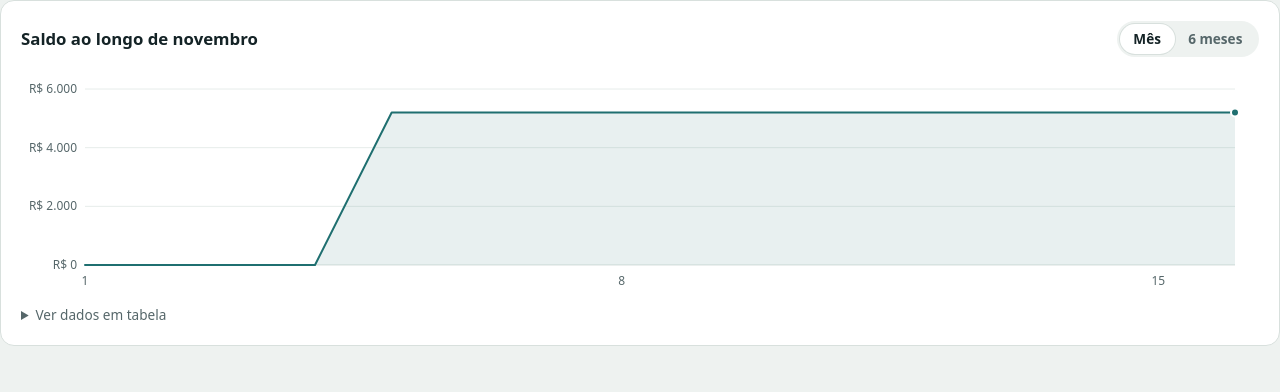
Test: ChartPanel › troca para o histórico de 6 meses pela aba
The width and height of the screenshot is (1280, 392).
Click the tab "6 meses" at (1215, 39), box [1175,24,1256,54]
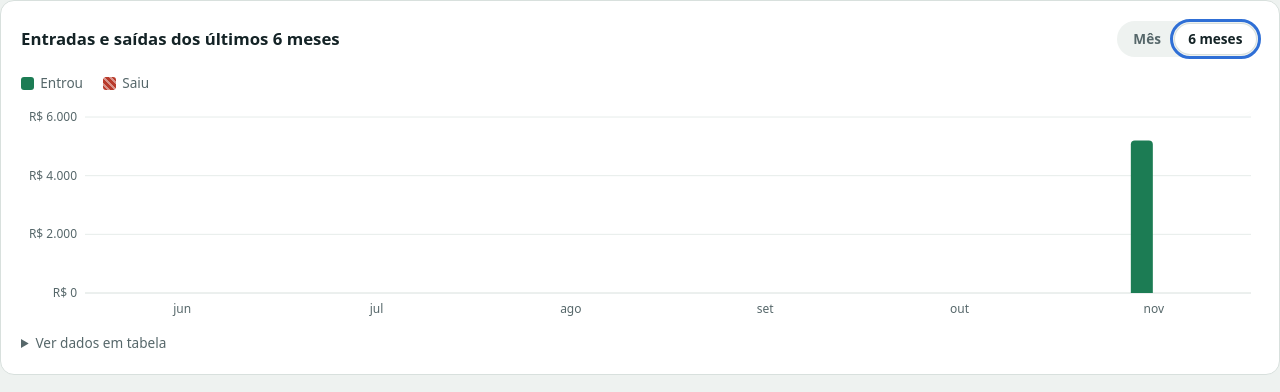
Expected: the picture "Entrou em novembro de 2026: R$ 5.200,00" is shown, [1057,117,1154,293]
Now the heading "Entradas e saídas dos últimos 6 meses" is shown, box [21,29,340,49]
